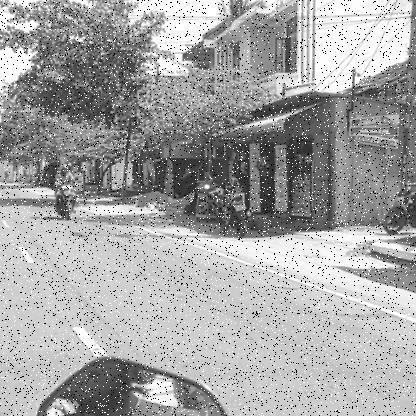motorcycle: (52, 186, 79, 222)
